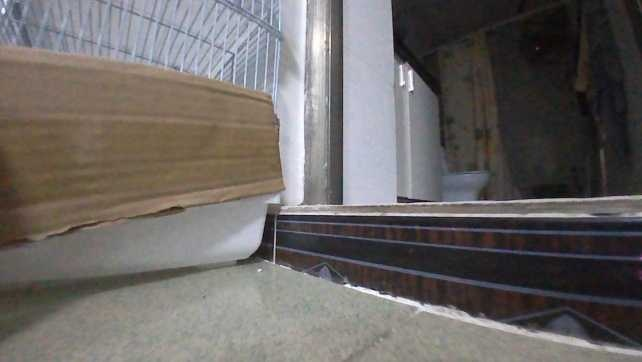door_sill: (272, 194, 639, 352)
toilet: (436, 143, 490, 200)
